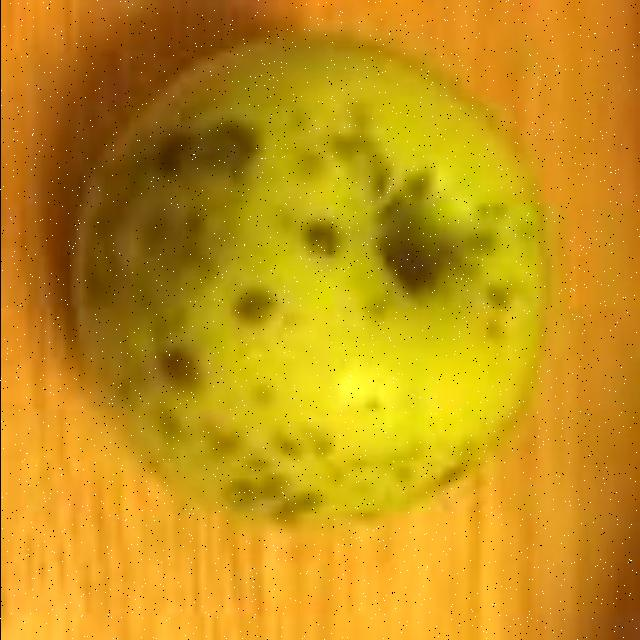BLOTCH: (70, 54, 568, 544)
